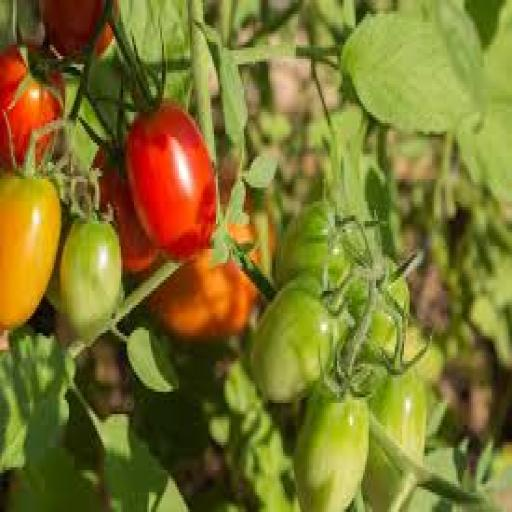tomato: (127, 101, 215, 260), (252, 277, 336, 402), (149, 250, 256, 341), (0, 174, 61, 330), (295, 392, 368, 511), (94, 149, 158, 274), (0, 45, 63, 167), (60, 222, 121, 341), (276, 202, 361, 285), (276, 202, 350, 285), (371, 370, 426, 461), (40, 0, 104, 58), (367, 277, 409, 355), (369, 305, 396, 352)
